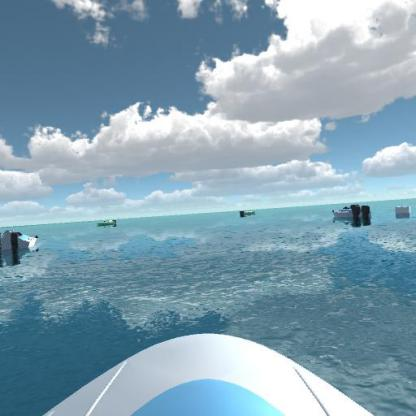usv0: (92, 212, 118, 230), (238, 204, 260, 219)
usv1: (2, 221, 41, 258), (331, 200, 376, 226)
